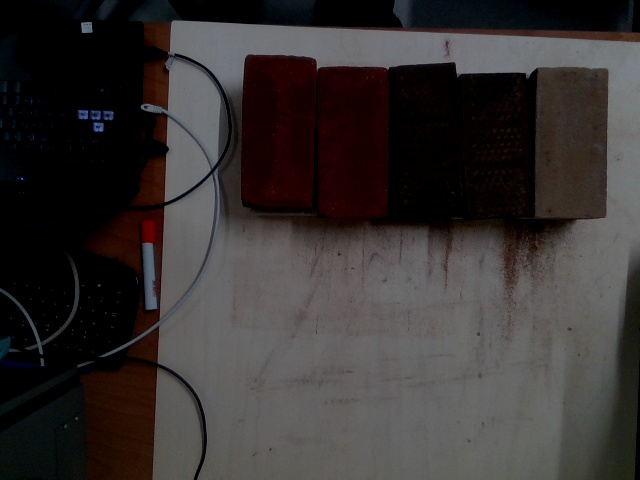brick: (242, 54, 315, 206), (537, 67, 608, 219), (392, 63, 461, 214), (320, 68, 388, 217), (463, 73, 533, 214)
